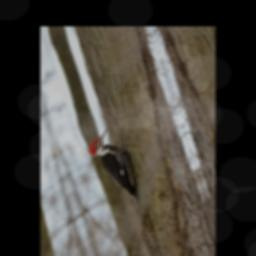Woodpecker: (85, 117, 151, 231)
